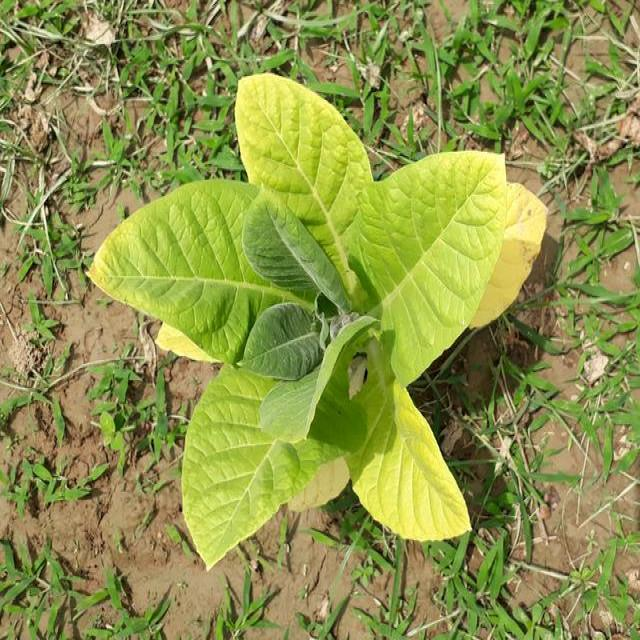crop: (102, 75, 556, 574)
